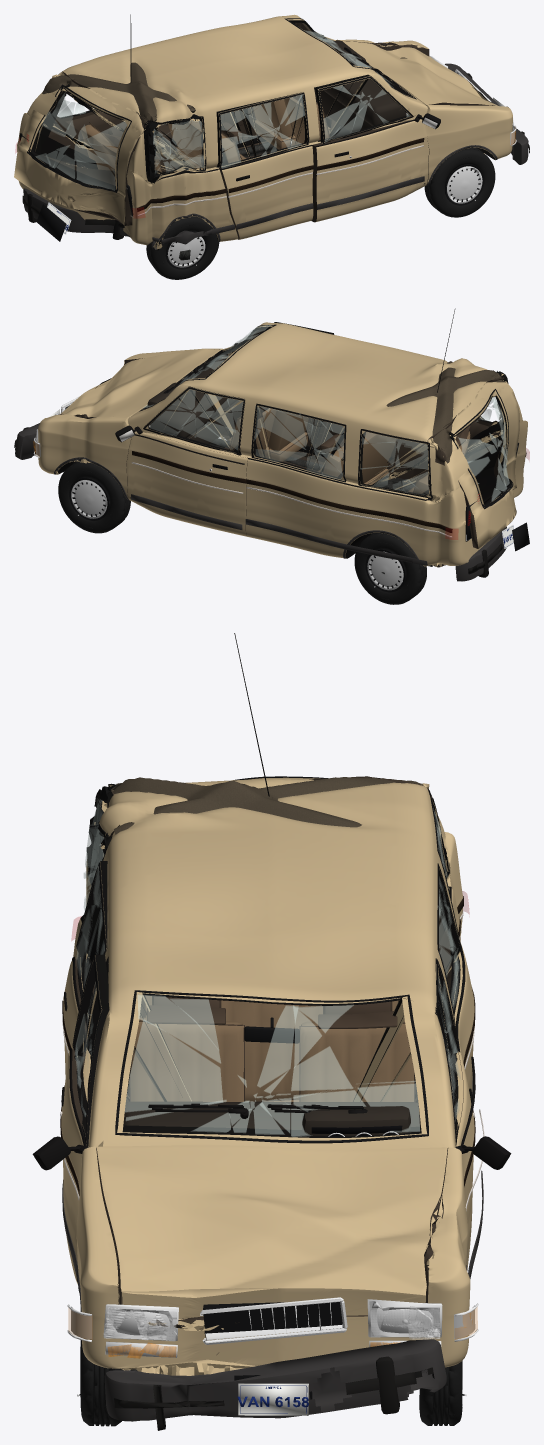
The model's file is minivan86_rear_corner_R_d1_lod1.glb.
3 renders of one model, top to bottom at view 1: azimuth 30°, elevation 25°; view 2: azimuth 150°, elevation 25°; view 3: azimuth 270°, elevation 25°, orthographic. The views are drawn at different scales.
Visible parts, largest first — view 1: Body, Interior, Door_FR, Liftgate, Door_SR, Glass_Liftgate, Hood, Wheel_FR_mesh, Glass, Wheel_RR_mesh, Glass_SR, Trim_FR (+8 smaller); view 2: Body, Door_FL, Interior, Glass, Liftgate, Trim, Hood, Wheel_FL_mesh, Wheel_RL_mesh, Glass_FL, Trim_FL, Glass_Liftgate (+5 smaller); view 3: Body, Hood, Interior, Glass, Bumper_F, Ends, Door_FR, Trim, Lamps_Head, Door_FL, Trim_FR, Trim_FL (+6 smaller).
Part boxes in pixels (x1,y1,x2,y2): Body: (17,14,512,250); Interior: (81,40,406,172); Door_FR: (311,74,428,222); Liftgate: (14,71,149,225); Door_SR: (216,92,313,239); Glass_Liftgate: (27,84,131,192); Hood: (343,41,497,105); Wheel_FR_mesh: (424,147,495,217); Glass: (58,18,416,182); Wheel_RR_mesh: (146,216,219,279); Glass_SR: (218,94,308,169); Trim_FR: (315,76,440,209); Body: (38,322,527,567); Door_FL: (126,386,247,536); Interior: (147,357,470,493); Glass: (139,324,508,498); Liftgate: (427,372,519,548); Trim: (54,308,526,566); Hood: (61,348,220,417); Wheel_FL_mesh: (58,461,130,533); Wheel_RL_mesh: (354,533,426,604); Glass_FL: (148,386,245,455); Trim_FL: (115,387,246,529); Glass_Liftgate: (450,389,513,509); Body: (73,777,474,1375); Hood: (96,1145,447,1326); Interior: (123,995,420,1136); Glass: (84,786,459,1143); Bumper_F: (104,1339,446,1430); Ends: (67,1297,478,1415); Door_FR: (61,954,109,1284); Trim: (72,633,475,1311); Lamps_Head: (103,1306,440,1341); Door_FL: (435,957,474,1269); Trim_FR: (32,956,101,1282); Trim_FL: (436,958,511,1278).
Size of the model in its own units: 4.56 by 2.37 by 2.07.
34 materials, 5 textured.
